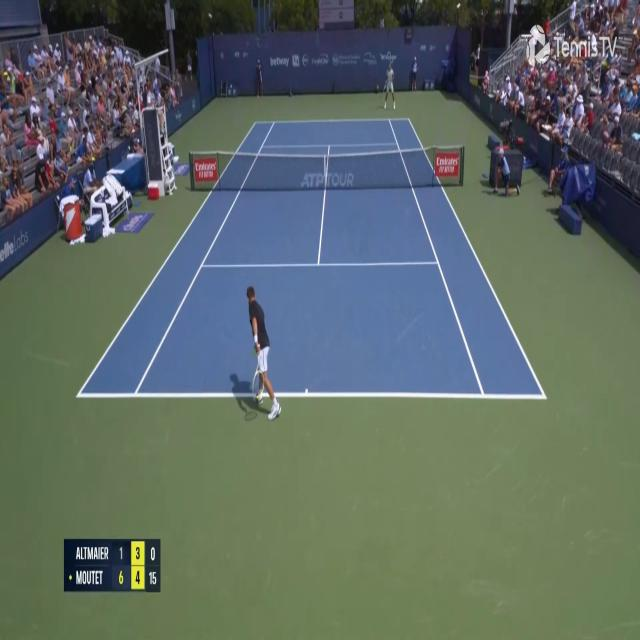tennis-player: (228, 281, 282, 425), (381, 64, 396, 110)
